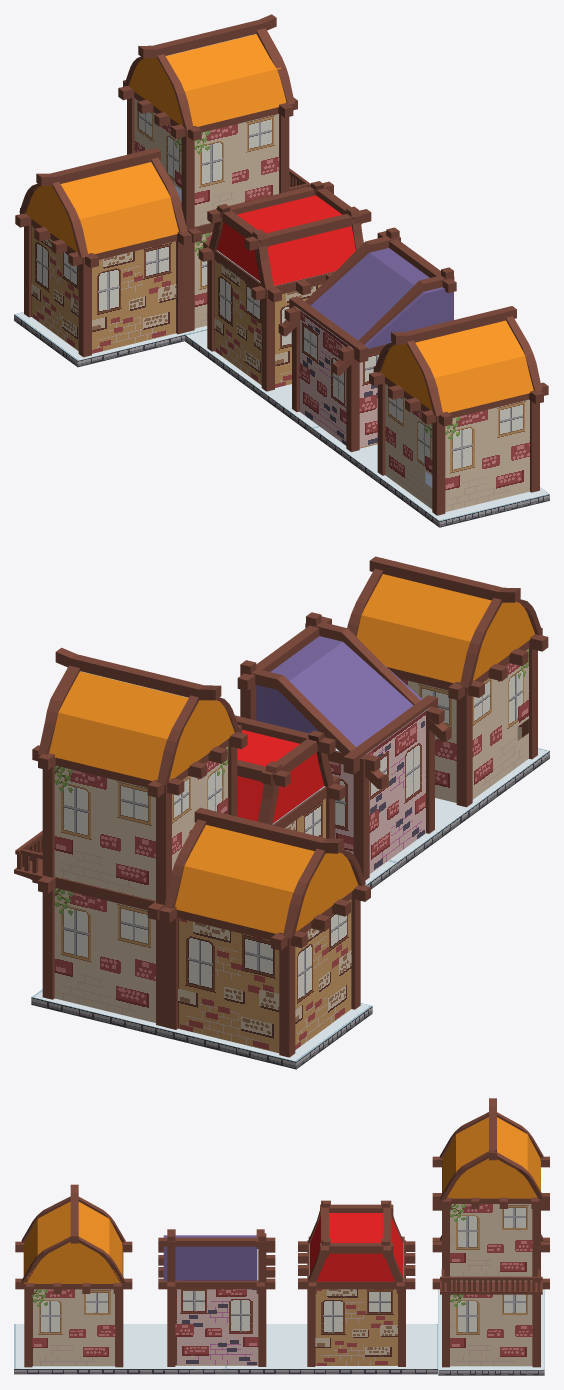
Rendered from AllDaHousesgltf.gltf.
3 renders of one model, top to bottom at view 1: azimuth 30°, elevation 25°; view 2: azimuth 150°, elevation 25°; view 3: azimuth 270°, elevation 25°, orthographic. The views are drawn at different scales.
Visible parts, largest first — view 1: housebody (×6), housesupportbeams (×33), roof (×3), housebase (×3), roof2, cuboid; view 2: housebody (×6), housesupportbeams (×35), roof (×3), roof2, housebase (×2), cuboid; view 3: housebody (×5), housesupportbeams (×29), roof (×2), housebase (×3), cuboid, roof2.
Part boxes in pixels (left/top/right/bottom): housebody (×6): left=31, top=98, right=529, bottom=511; housesupportbeams (×33): left=24, top=14, right=548, bottom=515; roof (×3): left=26, top=34, right=533, bottom=412; housebase (×3): left=14, top=312, right=549, bottom=527; roof2: left=310, top=248, right=453, bottom=348; cuboid: left=217, top=195, right=355, bottom=285; housebody (×6): left=54, top=649, right=528, bottom=1053; housesupportbeams (×35): left=32, top=556, right=537, bottom=1057; roof (×3): left=49, top=574, right=534, bottom=933; roof2: left=256, top=636, right=421, bottom=747; housebase (×2): left=31, top=748, right=549, bottom=1069; cuboid: left=237, top=729, right=324, bottom=823; housebody (×5): left=32, top=1204, right=532, bottom=1366; housesupportbeams (×29): left=15, top=1098, right=549, bottom=1367; roof (×2): left=23, top=1117, right=540, bottom=1283; housebase (×3): left=14, top=1289, right=544, bottom=1375; cuboid: left=310, top=1213, right=403, bottom=1281; roof2: left=163, top=1235, right=257, bottom=1280.
Size of the model in its own units: 19.91 by 21.34 by 45.73.
8 materials, 8 textured.
